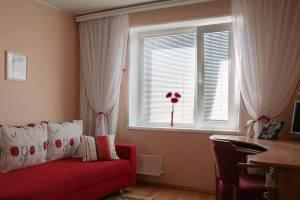window: (131, 19, 239, 130)
